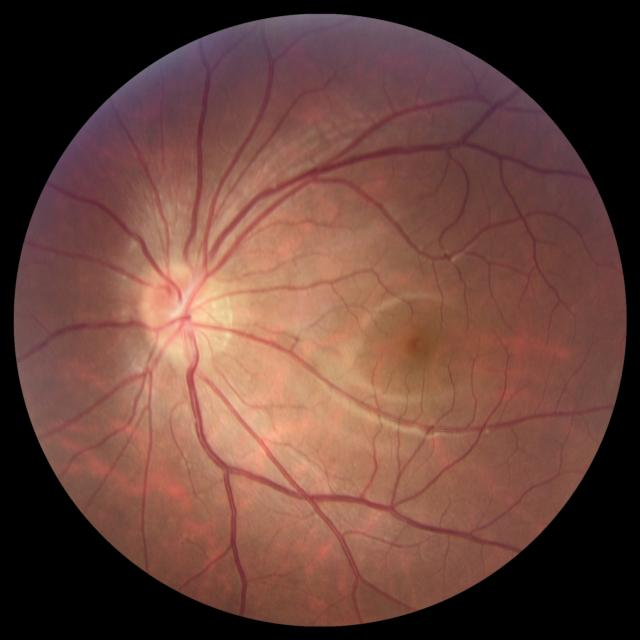OC: (170, 298, 198, 327)
OD: (137, 257, 226, 367)
